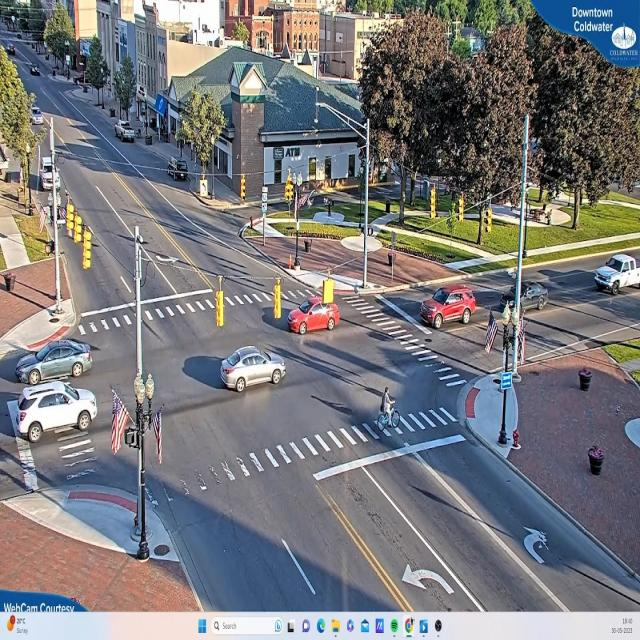bicycle: (371, 383, 404, 439)
car: (14, 340, 94, 388), (24, 386, 95, 437), (218, 346, 286, 392), (419, 287, 477, 329), (287, 294, 341, 334), (595, 255, 637, 293), (502, 282, 548, 314), (166, 160, 189, 181), (116, 123, 136, 143)
